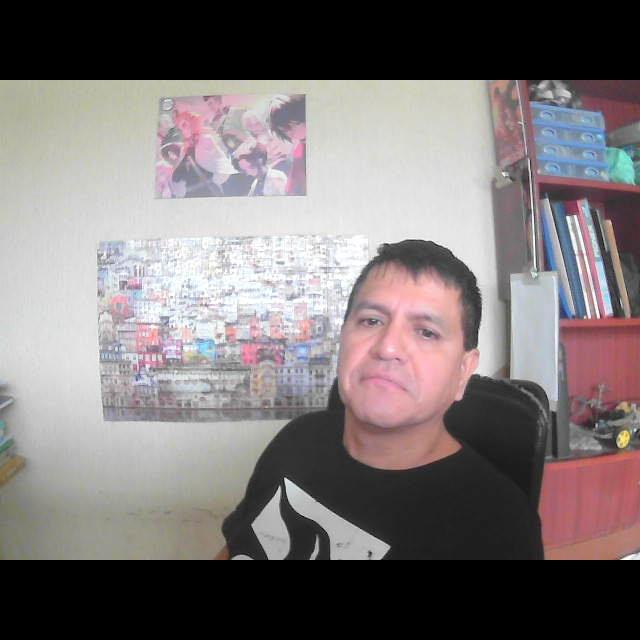cesar: (308, 228, 492, 474)
